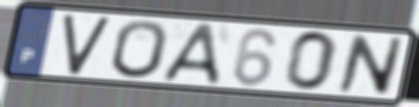0: (280, 29, 345, 92)
6: (230, 26, 279, 89)
A: (158, 22, 223, 86)
N: (334, 32, 407, 98)
O: (110, 18, 171, 81)
V: (61, 14, 114, 77)
